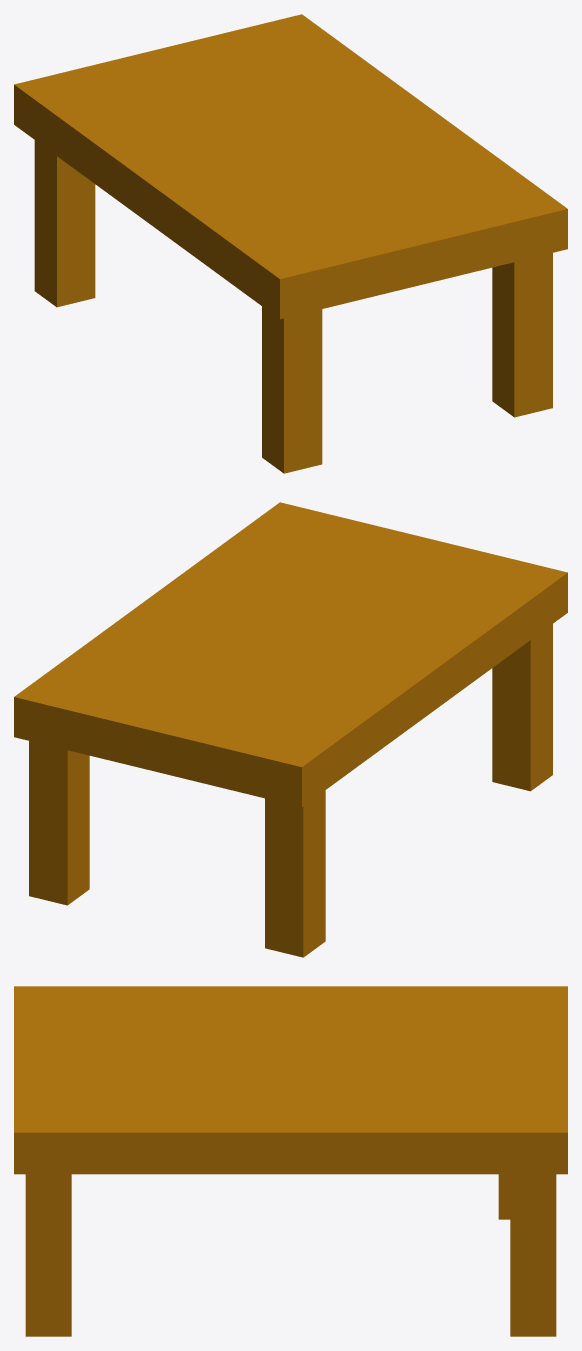
File: livingroom_table.gltf
3 views of the same model, one above another, from view 1: azimuth 30°, elevation 25°; view 2: azimuth 150°, elevation 25°; view 3: azimuth 270°, elevation 25° (orthographic). The views are drawn at different scales.
Parts seen in each view (by area): view 1: mesh (×4); view 2: mesh (×4); view 3: mesh (×4).
Part boxes in pixels (x1,y1,x2,y2): mesh (×4): (14, 14, 567, 473); mesh (×4): (14, 502, 567, 957); mesh (×4): (14, 986, 567, 1336).
Bounding box in the file's own units: 1.88 × 1.25 × 3.
Materials: 1 (1 with a texture image).
